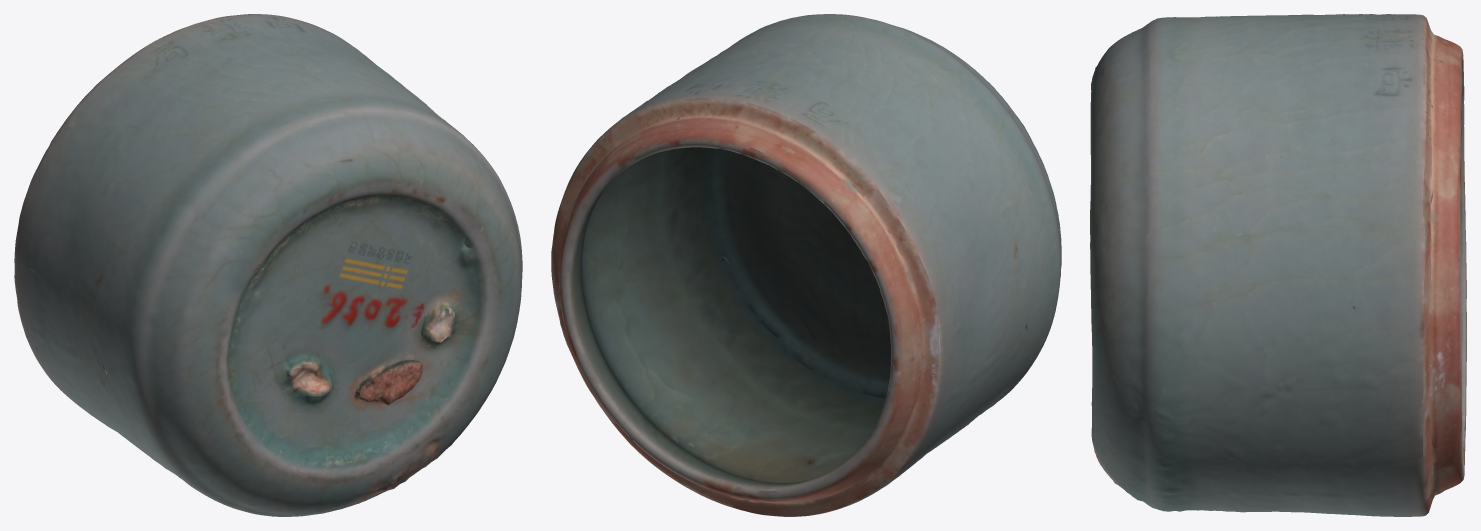
The model's file is nmk-1096.glb.
3 renders of one model, left to right at view 1: azimuth 30°, elevation 25°; view 2: azimuth 150°, elevation 25°; view 3: azimuth 270°, elevation 25°, orthographic. The views are drawn at different scales.
Visible parts, largest first — view 1: duk002056-001-30000; view 2: duk002056-001-30000; view 3: duk002056-001-30000.
Boxes of the visible parts, x1,y1,x2,y2 form: duk002056-001-30000: (14,14,522,516); duk002056-001-30000: (551,14,1061,516); duk002056-001-30000: (1090,14,1466,516).
Bounding box in the file's own units: 1.25 × 1.25 × 0.9368.
Materials: 1 (1 with a texture image).
